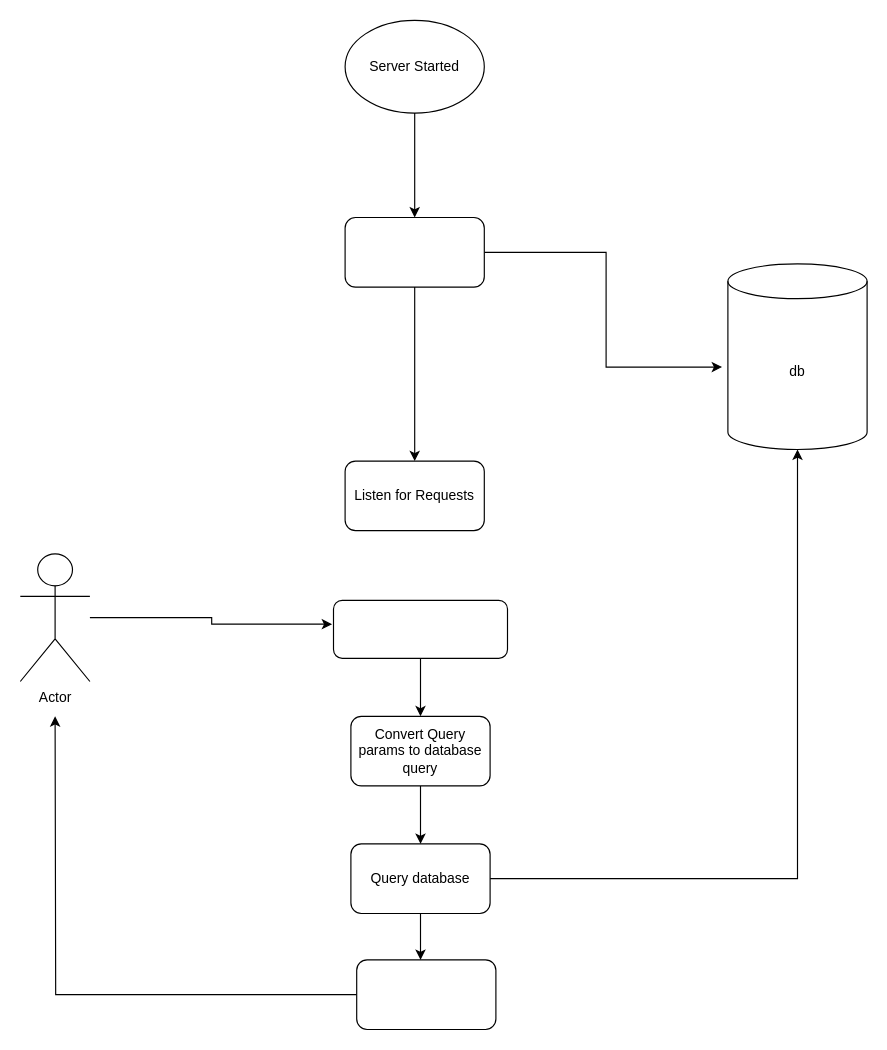
This 887x1050 diagram has some shape labels left out. Here are the shapes that lost their labels. From the top down, the centre of each, then its label:
At (414,251): "Fetch data from server".
At (419,628): "Initiates Request".
At (426,994): "Send Response back to user".
